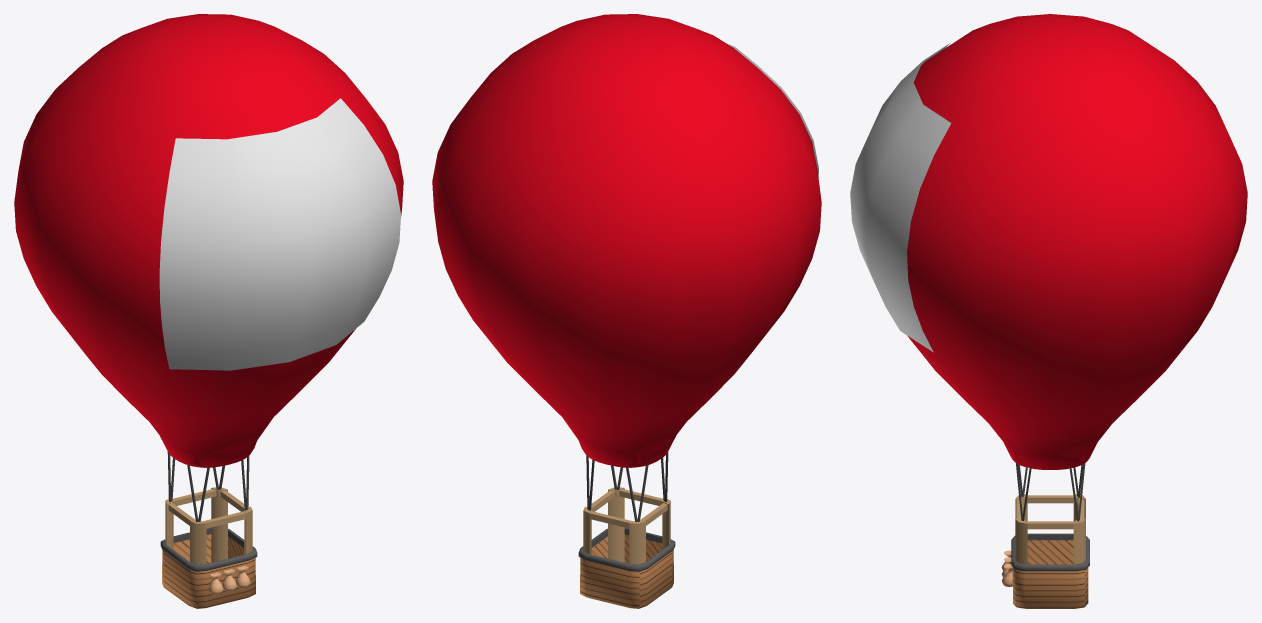
File: LiM-OP_Air_Ballon.fbx
3 renders of one model, left to right at view 1: azimuth 30°, elevation 25°; view 2: azimuth 150°, elevation 25°; view 3: azimuth 270°, elevation 25°, orthographic.
Parts seen in each view (by area): view 1: Cube.010; view 2: Cube.010; view 3: Cube.010.
Part boxes in pixels (<box>): Cube.010: <box>14,14,403,608</box>; Cube.010: <box>432,14,821,608</box>; Cube.010: <box>850,14,1247,608</box>.
Bounding box in the file's own units: 1569 × 1010 × 1002.
